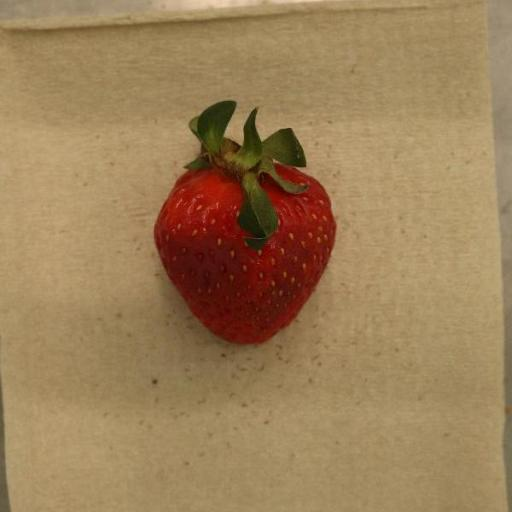Strawberry: (154, 101, 337, 346)
